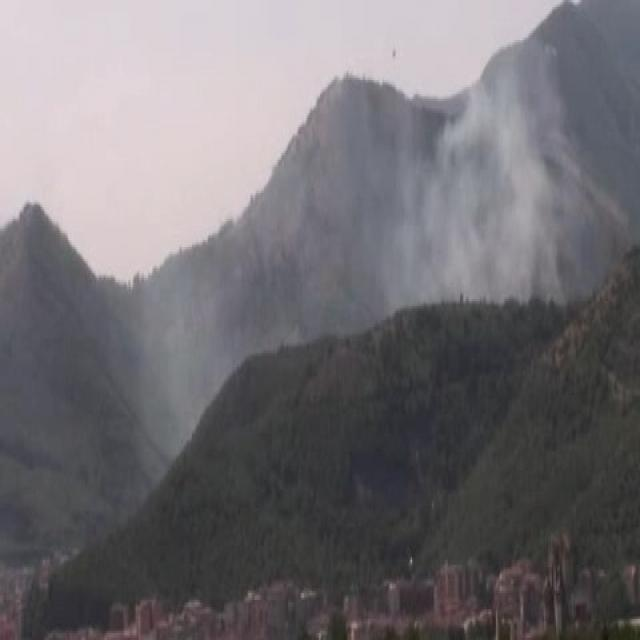smoke: (377, 75, 574, 304)
